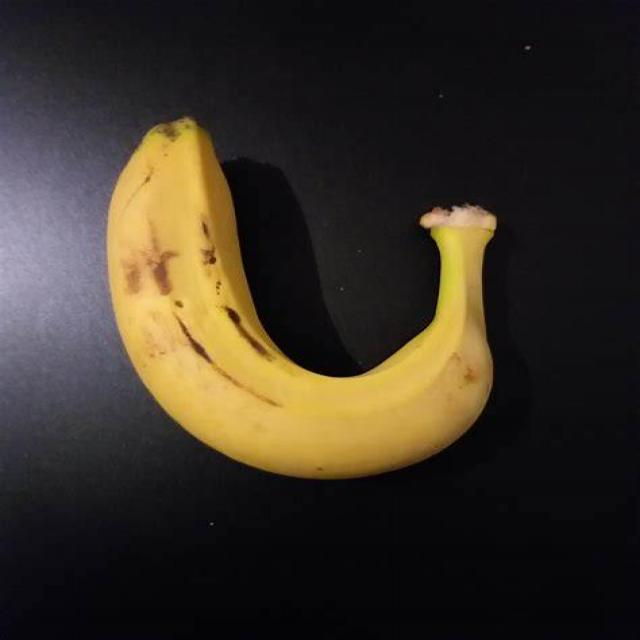Banana: (95, 118, 497, 473)
